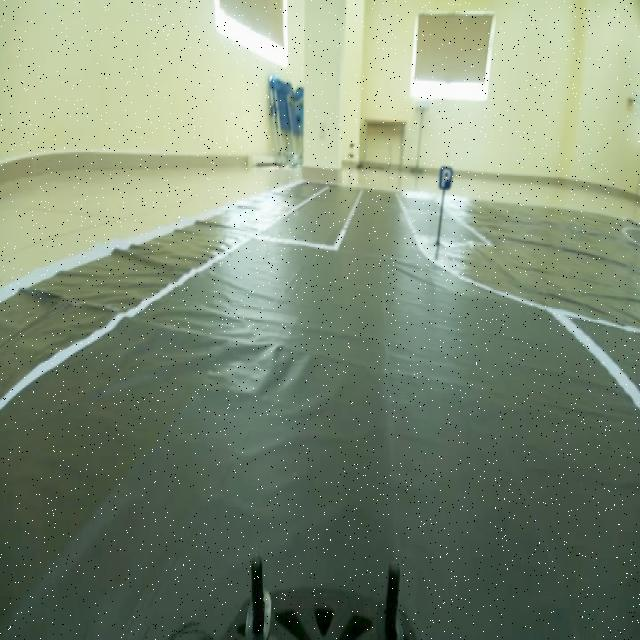parking: (434, 158, 458, 204)
